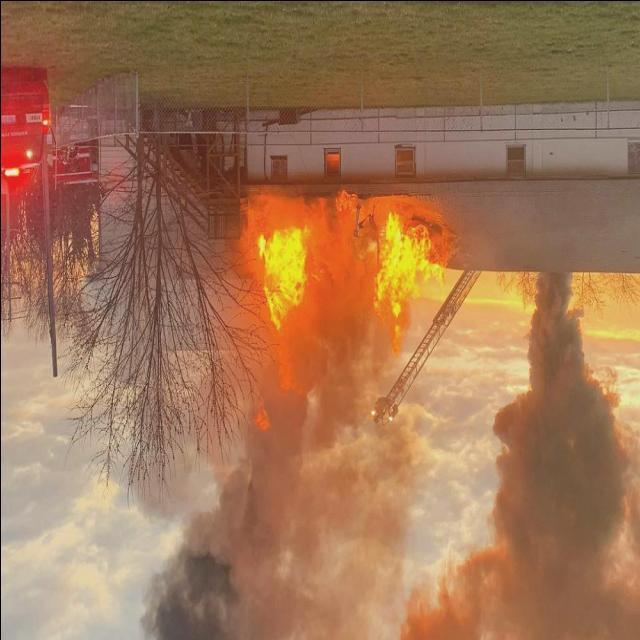Fire: (239, 192, 452, 396), (252, 396, 272, 432)
